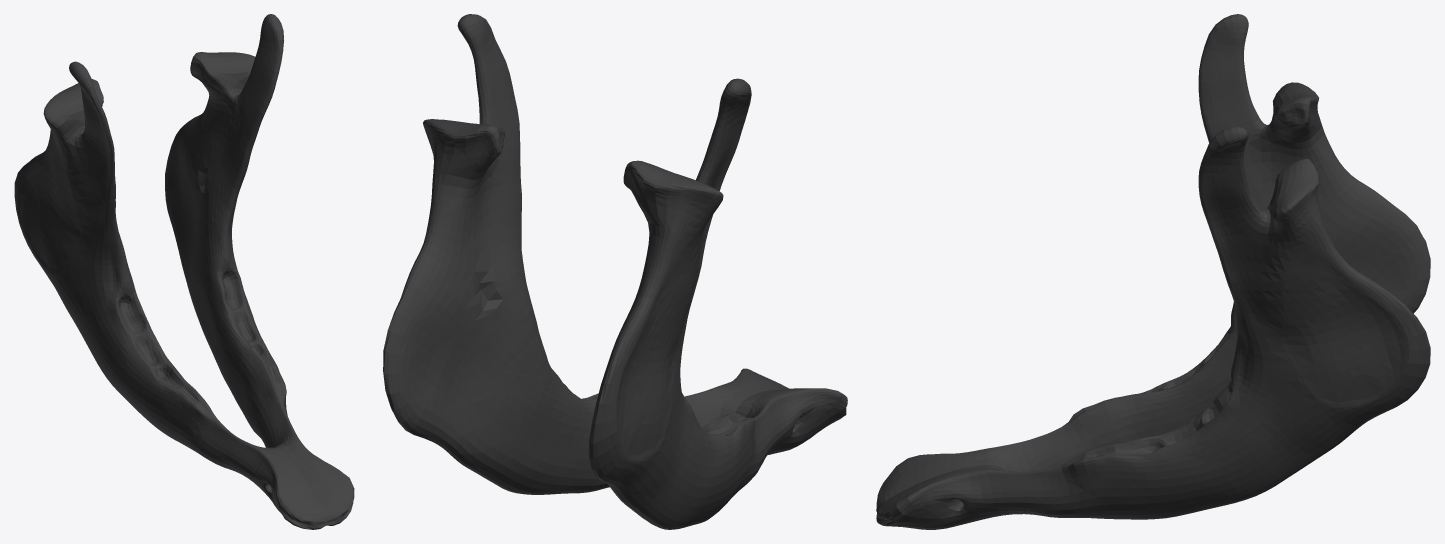
File: b_mandible_LO.glb
3 views of the same model, side by side, from view 1: azimuth 30°, elevation 25°; view 2: azimuth 150°, elevation 25°; view 3: azimuth 270°, elevation 25° (orthographic). The views are drawn at different scales.
Parts seen in each view (by area): view 1: b_mandible_LO; view 2: b_mandible_LO; view 3: b_mandible_LO.
Boxes of the visible parts, bbox=[...] form: b_mandible_LO: bbox=[14, 14, 354, 529]; b_mandible_LO: bbox=[383, 14, 847, 529]; b_mandible_LO: bbox=[876, 14, 1430, 529].
Bounding box in the file's own units: 0.00211 × 0.00355 × 0.00394.
Materials: 1 (1 with a texture image).
